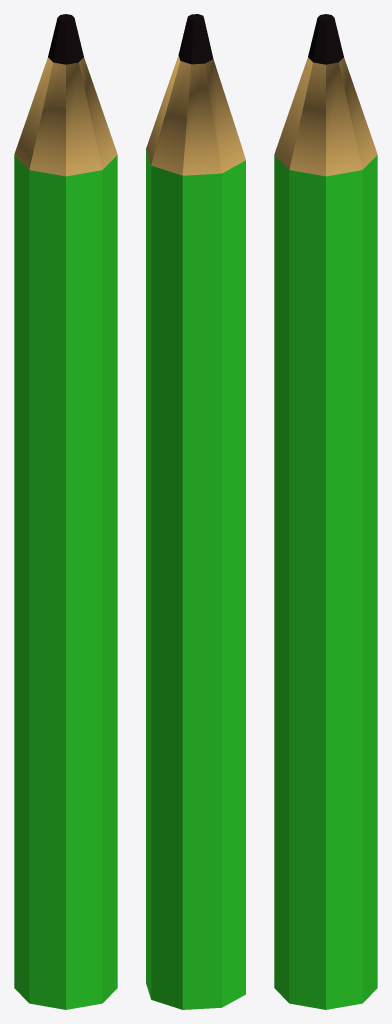
File: LapizColor.fbx
The picture shows the model from 3 angles, left to right: view 1: azimuth 90°, elevation 25°; view 2: azimuth 210°, elevation 25°; view 3: azimuth 270°, elevation 25°; orthographic projection.
Parts seen in each view (by area): view 1: Cylinder; view 2: Cylinder; view 3: Cylinder.
Boxes of the visible parts, x1=… form: Cylinder: x1=14, y1=14, x2=117, y2=1009; Cylinder: x1=146, y1=14, x2=245, y2=1009; Cylinder: x1=274, y1=14, x2=377, y2=1009.
Size of the model in its own units: 100 by 1036 by 100.
